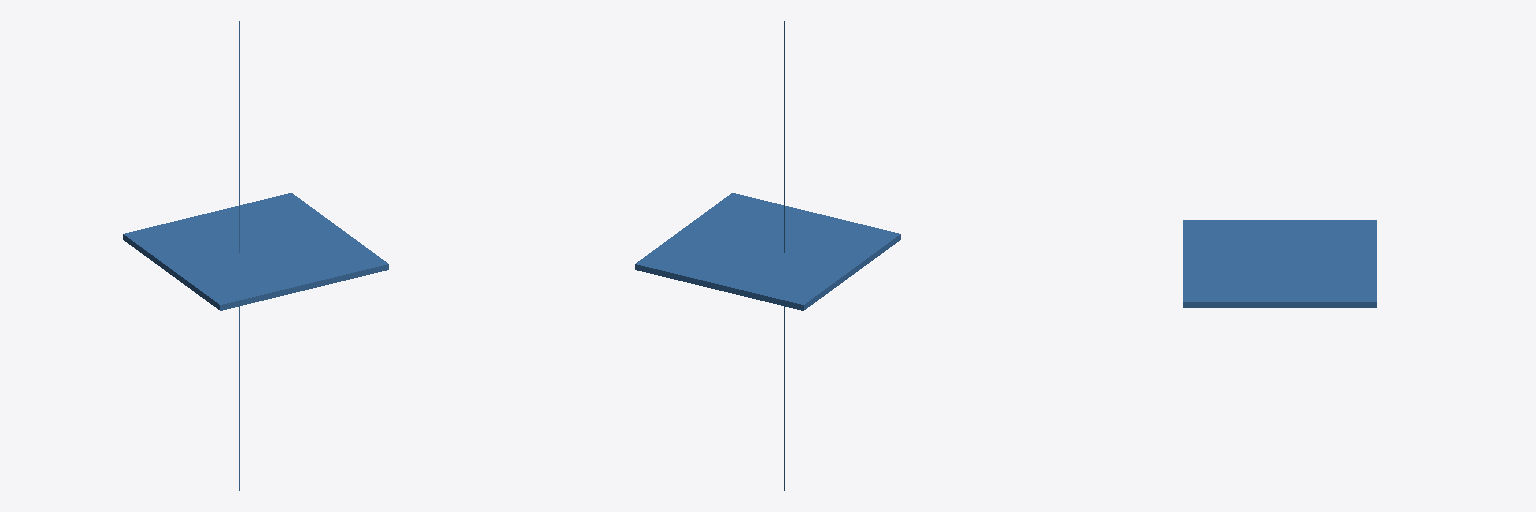
URDF robot description (board):
<?xml version="1.0"?>
<robot name="board">

  <link name="slider" >
    <visual>
      <origin xyz="-0.3 0 0"/>
      <geometry>
        <box size="0.01 0.01 8"/>
      </geometry>
      <material name="slider_mat">
        <color rgba="0.3 0.5 0.7 1"/>
      </material>
    </visual>
    <collision>
      <geometry>
          <box size="0.01 0.01 8"/>
      </geometry>
    </collision>
   </link>
   
  <link name="board">
    <visual>
      <geometry>
        <box size="3 3 0.1"/>
	<mesh filename="meshes/board.obj"/>
      </geometry>
      <material name="board_mat">
        <color rgba="0.3 0.5 0.7 1"/>
      </material>
    </visual>
    <collision>
      <geometry>
        <box size="3 3 0.1"/>
	<mesh filename="meshes/board.obj"/>
      </geometry>
      <surface>
	<contact>
	  <kp>100000</kp>
	  <kd>1</kd>
	</contact>
      </surface>
    </collision>
    <inertial>
      <mass value="1"/>
      <inertia ixx="0.02" ixy="0" ixz="0" iyy="0.02" iyz="0" izz="0.02"/>
    </inertial>
  </link>

  <joint name="slider_to_board" type="prismatic">
    <parent link="slider"/>
    <child link="board"/>
    <axis xyz="0 0 1"/>
    <origin xyz="0 0 0"/>
    <limit effort="1000.0" lower="0" upper="2" velocity="10"/>
  </joint>

</robot>

--- What the picture shows (computed from the rendered views, not written in the file) ---
Views: 3 orthographic renders of the robot side by side, from view 1: azimuth 30°, elevation 25°; view 2: azimuth 150°, elevation 25°; view 3: azimuth 270°, elevation 25°.
Robot: board — 2 links, 1 joints (1 prismatic); root link slider; default pose: all joints at 0.
Links seen in each view (by area): view 1: board; view 2: board; view 3: board.
Link boxes in pixels (left/top/right/bottom): board: left=123, top=193, right=388, bottom=310; board: left=635, top=193, right=900, bottom=310; board: left=1183, top=220, right=1376, bottom=307.
Bounding box of the posed robot: 3 × 3 × 8 m (x, y, z).
Geometry: primitives only (box / cylinder / sphere), no mesh files.